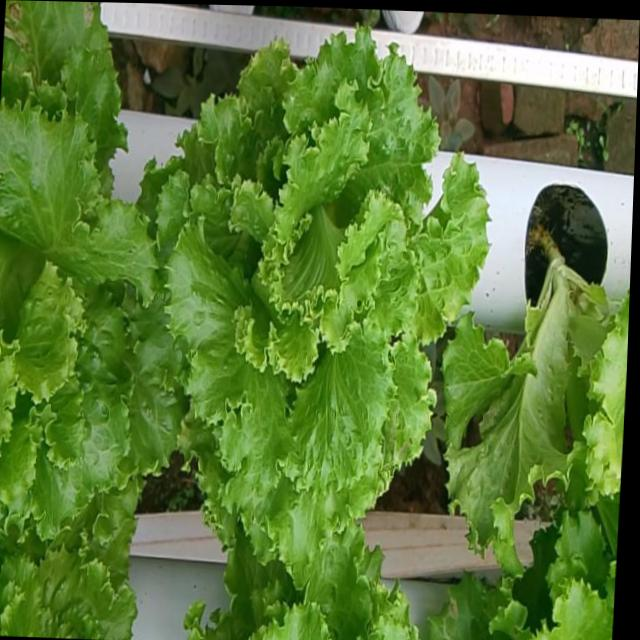Mature: (159, 29, 493, 566), (0, 91, 183, 536)
